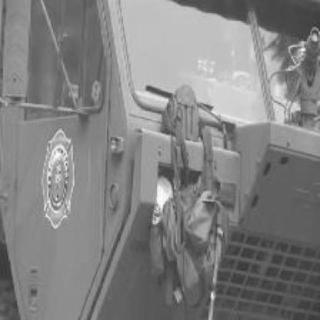other: (171, 167, 244, 306), (40, 124, 82, 228)
